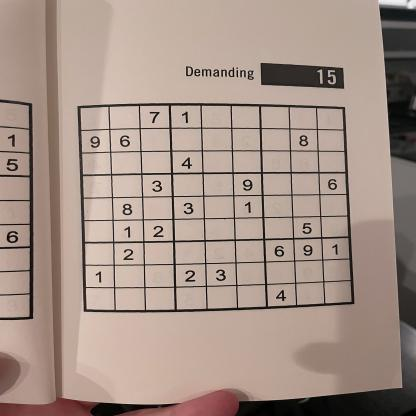sudoku: (71, 101, 360, 318)
